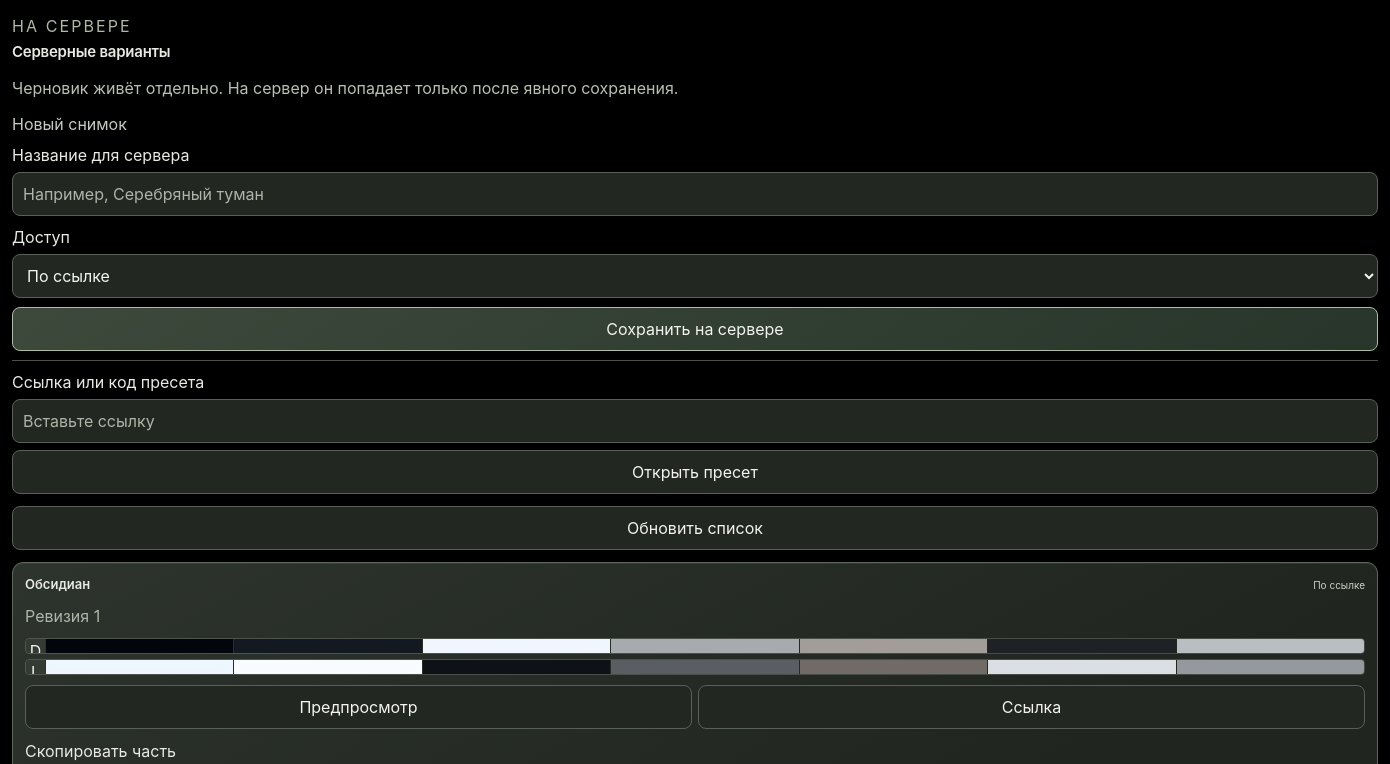
Test: remote preset library › shows owned palette metadata and saves only after explicit action
The width and height of the screenshot is (1390, 764).
Expected: the text "Ревизия 1" is shown, [25,604,100,628]
Expected: the text "По ссылке" is shown, [1313,578,1365,592]
Type "Мрамор" into the field labelled "Название для сервера" at [695, 194], box [12,172,1378,216]
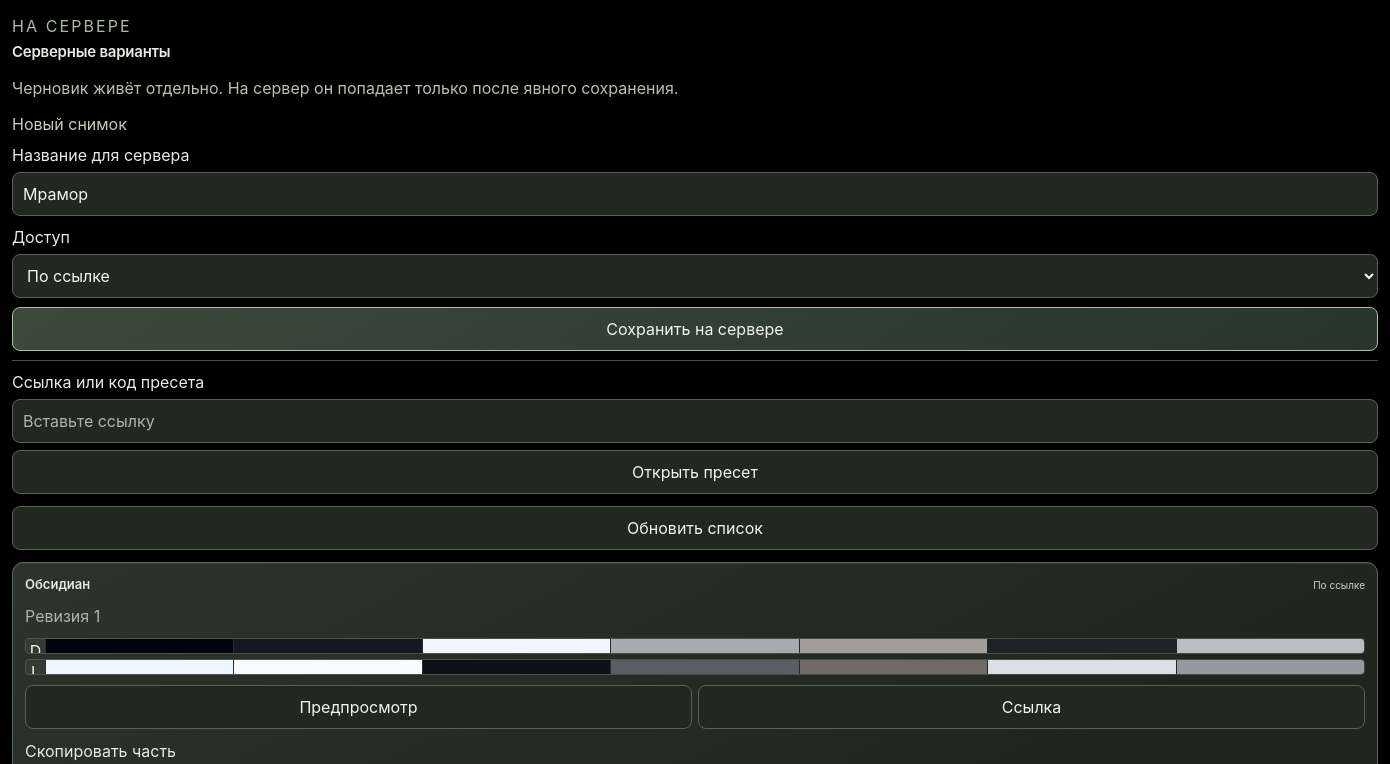
Click the button "Сохранить на сервере" at [695, 328], box [12,306,1378,350]
(page scrolled)
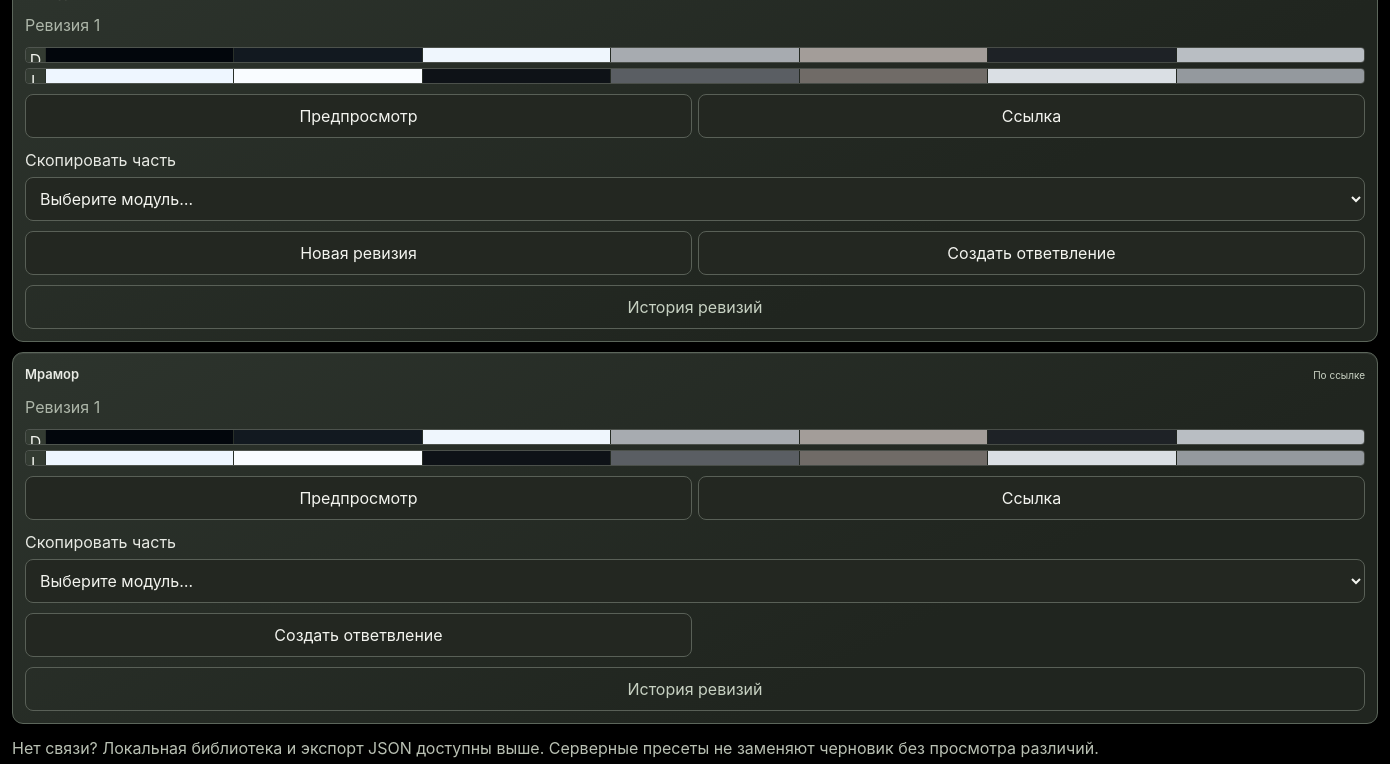
Expected: the element "Мрамор" is shown, [12,352,1378,724]
